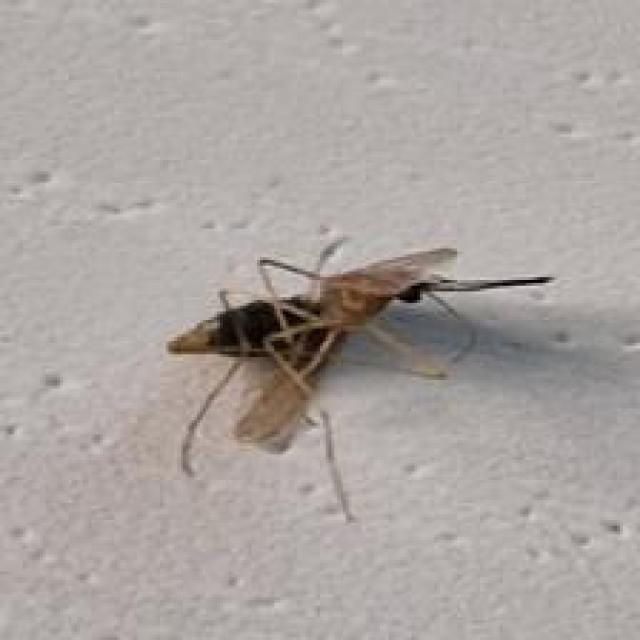Culex: (164, 231, 556, 526)
